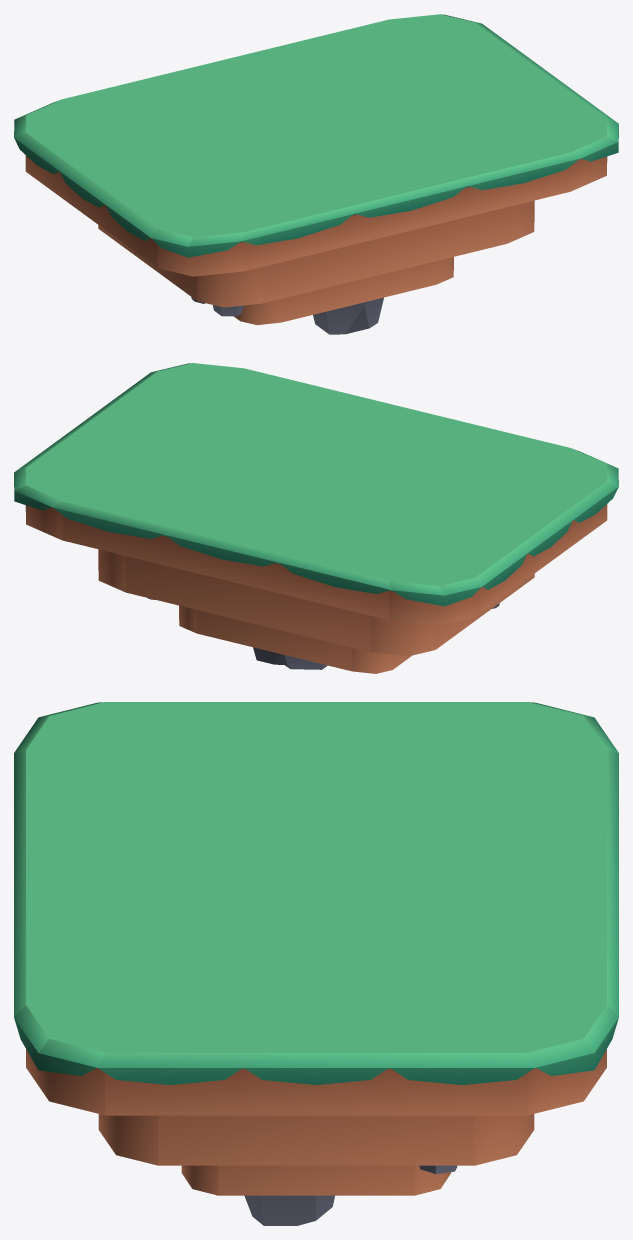
The model's file is island-b.glb.
3 renders of one model, top to bottom at view 1: azimuth 30°, elevation 25°; view 2: azimuth 150°, elevation 25°; view 3: azimuth 270°, elevation 25°, orthographic. The views are drawn at different scales.
Parts seen in each view (by area): view 1: island-b; view 2: island-b; view 3: island-b.
Boxes of the visible parts, box(x1,y1,x2,y2) form: island-b: box(14, 14, 618, 334); island-b: box(14, 363, 618, 673); island-b: box(14, 702, 618, 1225).
Size of the model in its own units: 40 by 16 by 28.
1 material, 1 textured.
